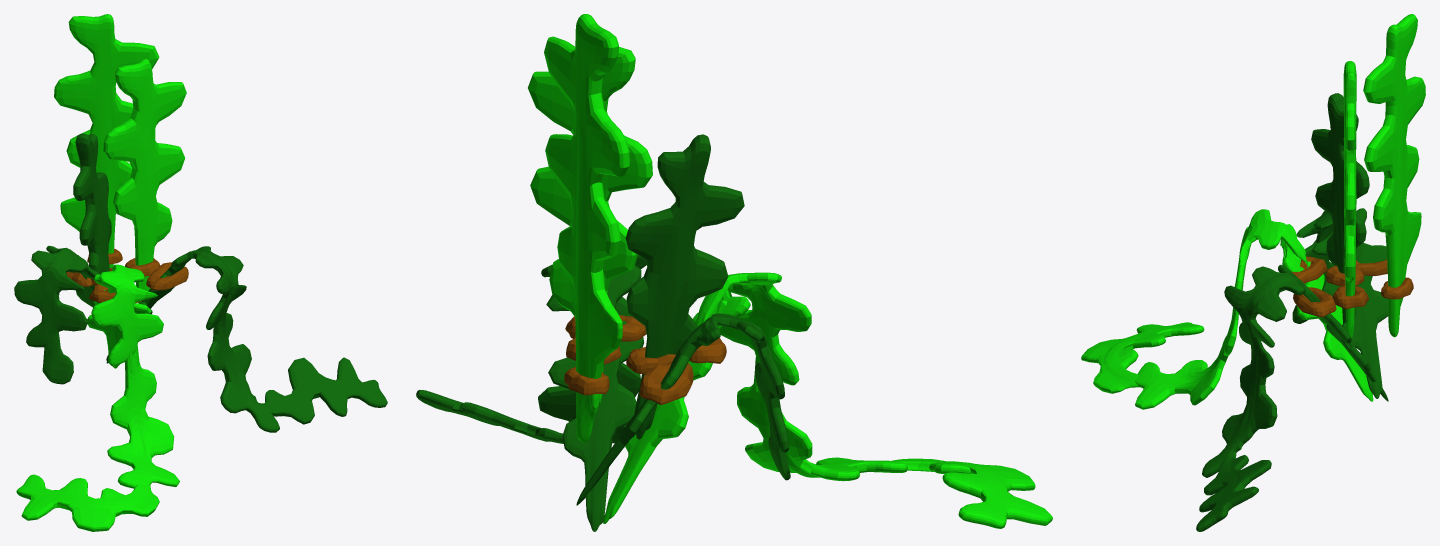
The model's file is FishBone_L.fbx.
3 renders of one model, left to right at view 1: azimuth 30°, elevation 25°; view 2: azimuth 150°, elevation 25°; view 3: azimuth 270°, elevation 25°, orthographic. The views are drawn at different scales.
Parts seen in each view (by area): view 1: Cube.003; view 2: Cube.003; view 3: Cube.003.
Part boxes in pixels (x1,y1,x2,y2): Cube.003: (14,14,387,531); Cube.003: (416,14,1052,531); Cube.003: (1081,14,1425,531).
Size of the model in its own units: 181 by 168 by 127.
